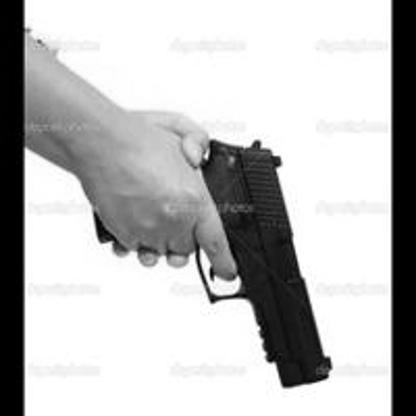weapon: (84, 132, 341, 391)
